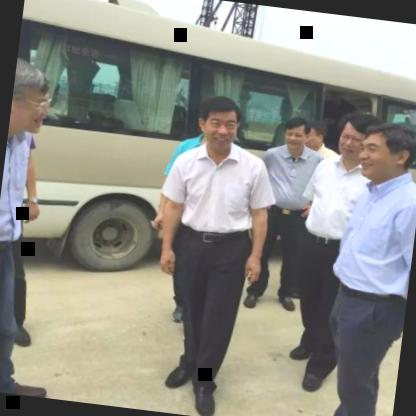head: (354, 117, 416, 181), (8, 56, 53, 140), (191, 91, 244, 149), (329, 108, 373, 162), (279, 112, 314, 152)
